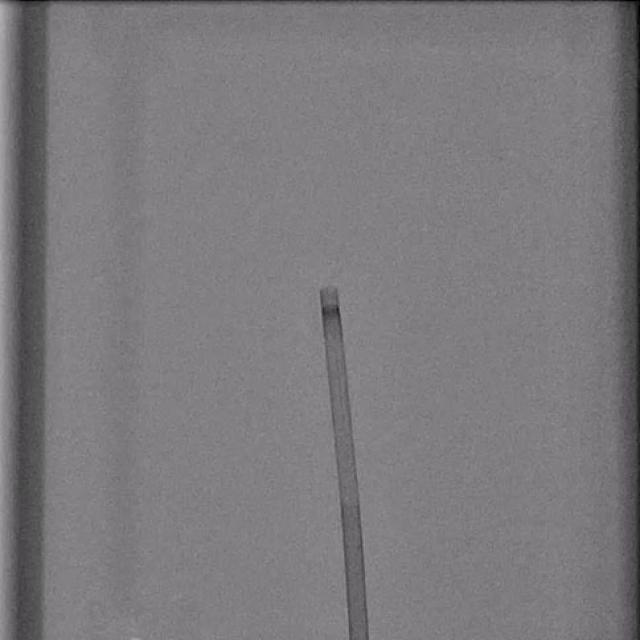bend: (340, 493, 359, 506)
entry: (350, 635, 368, 640)
marker: (321, 304, 339, 318)
tip: (320, 286, 340, 292)
